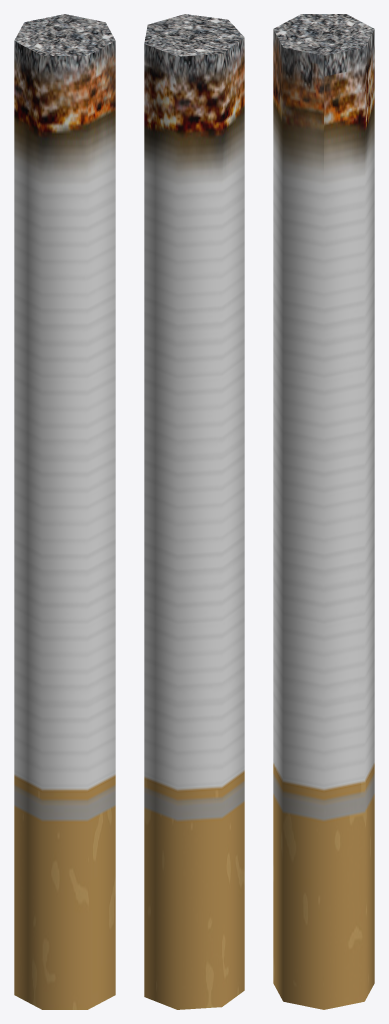
The model's file is cigarro.fbx.
The picture shows the model from 3 angles, left to right: view 1: azimuth 90°, elevation 25°; view 2: azimuth 150°, elevation 25°; view 3: azimuth 270°, elevation 25°; orthographic projection.
Parts seen in each view (by area): view 1: Cylinder004; view 2: Cylinder004; view 3: Cylinder004.
Boxes of the visible parts, x1,y1,x2,y2 form: Cylinder004: [14, 14, 115, 1009]; Cylinder004: [144, 14, 244, 1009]; Cylinder004: [273, 14, 374, 1009].
Size of the model in its own units: 1.5 by 15.91 by 1.54.
